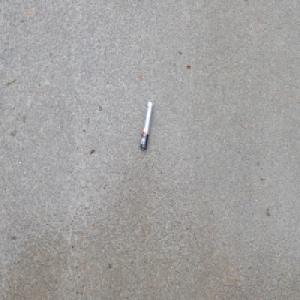Battery: (138, 100, 153, 152)
